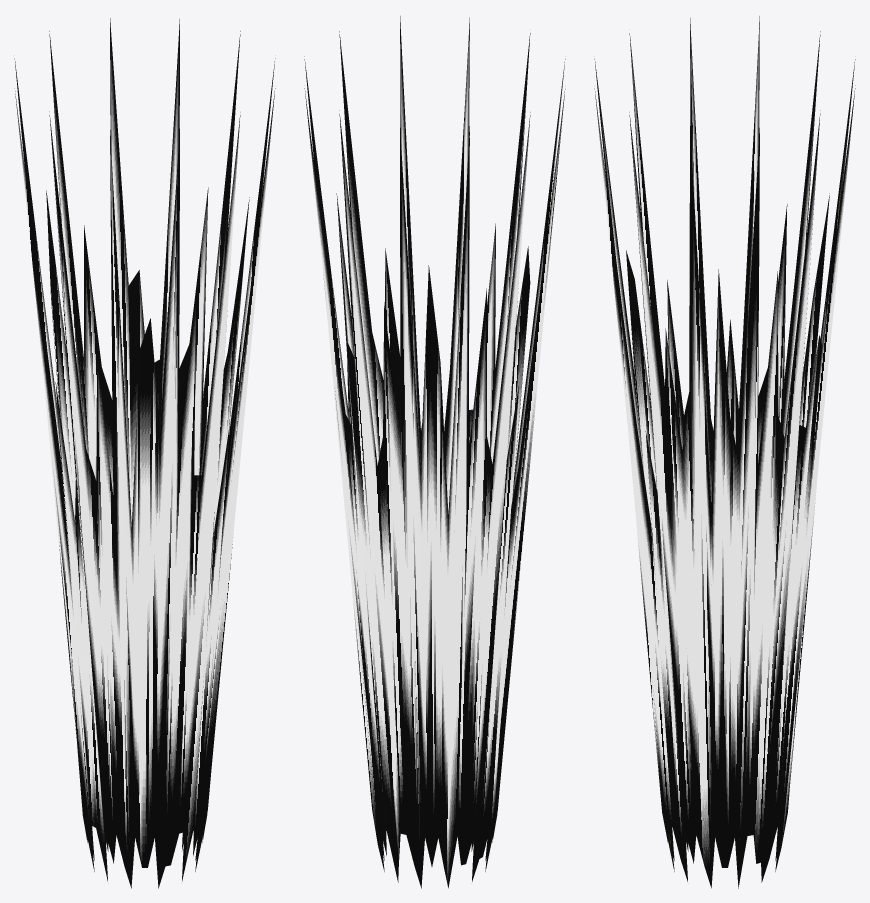
File: EffCommonActionSmokeV.obj
3 views of the same model, side by side, from view 1: azimuth 30°, elevation 25°; view 2: azimuth 150°, elevation 25°; view 3: azimuth 270°, elevation 25° (orthographic).
Parts seen in each view (by area): view 1: polygon0; view 2: polygon0; view 3: polygon0.
Boxes of the visible parts, <box> form: polygon0: <box>14,18,275,888</box>; polygon0: <box>304,16,565,888</box>; polygon0: <box>594,16,855,888</box>.
Size of the model in its own units: 4.81 by 16.22 by 4.81.
Materials: 1 (1 with a texture image).
